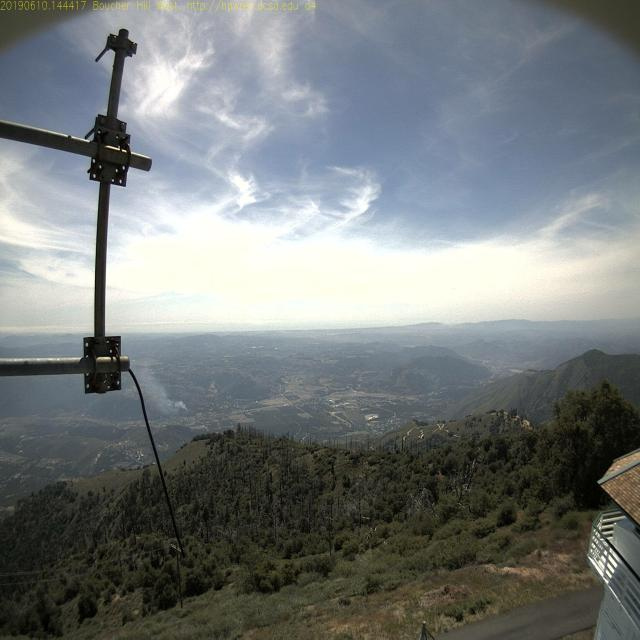smoke: (174, 392, 193, 419)
